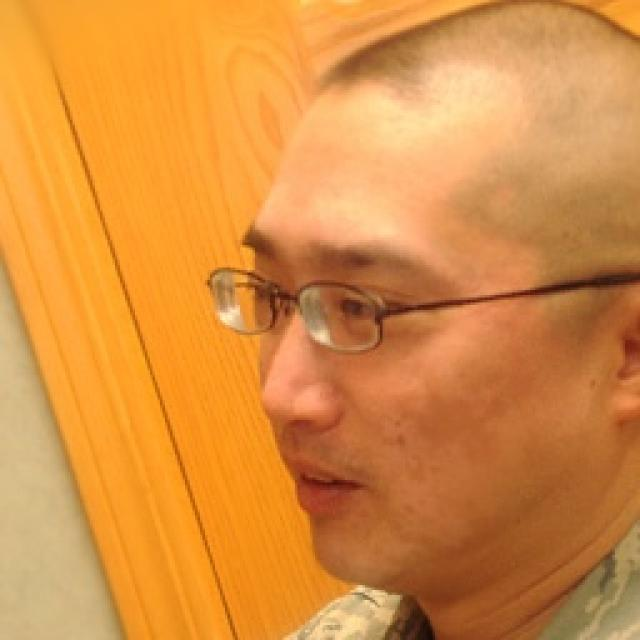glasses: (195, 248, 640, 350)
